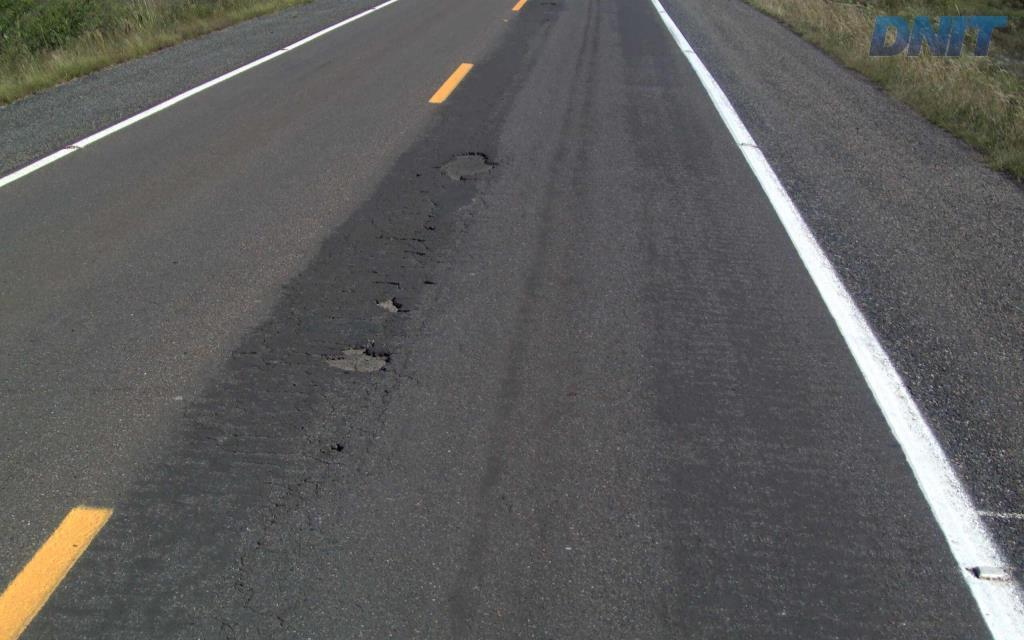pothole: (313, 341, 396, 377), (434, 146, 500, 183), (366, 293, 410, 316)
